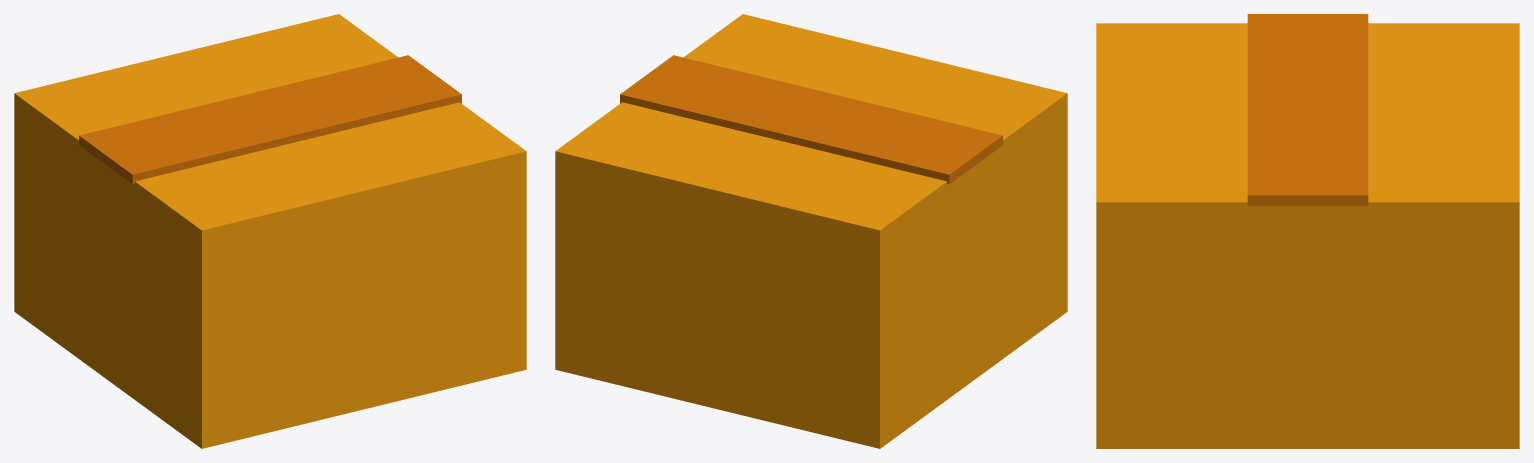
The picture shows the model from 3 angles, left to right: view 1: azimuth 30°, elevation 25°; view 2: azimuth 150°, elevation 25°; view 3: azimuth 270°, elevation 25°; orthographic projection. The views are drawn at different scales.
Parts seen in each view (by area): view 1: CardboardBox; view 2: CardboardBox; view 3: CardboardBox.
Boxes of the visible parts, x1,y1,x2,y2 form: CardboardBox: [14, 14, 526, 448]; CardboardBox: [555, 14, 1067, 448]; CardboardBox: [1096, 14, 1519, 448].
Bounding box in the file's own units: 0.71 × 0.465 × 0.7.
